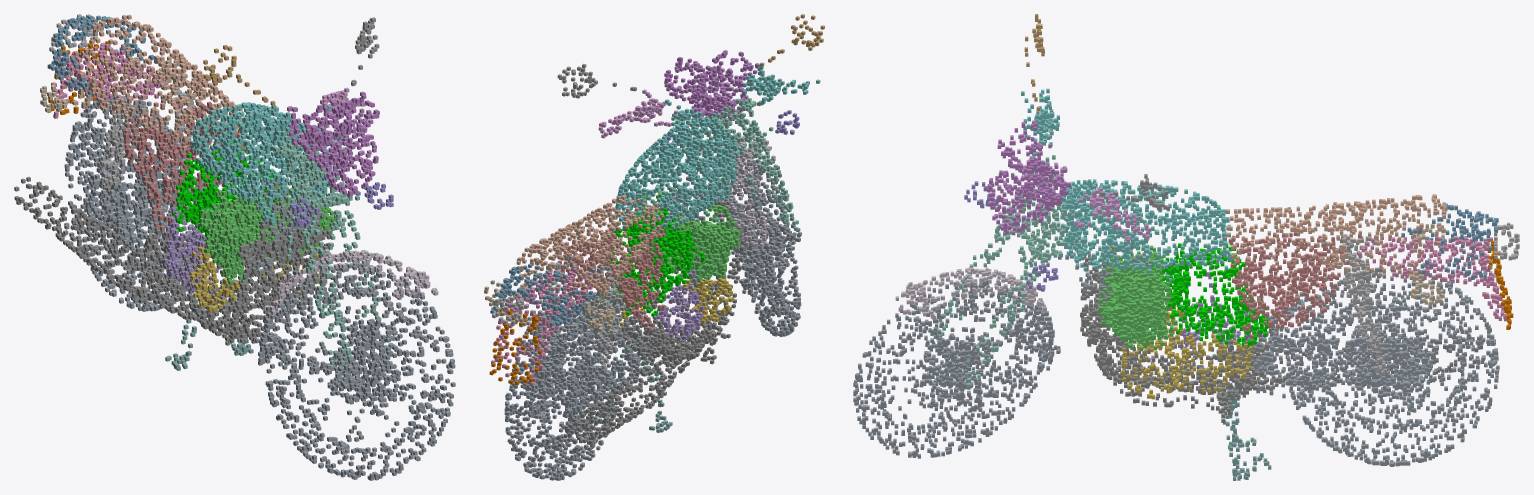
The model's file is motorcycle-2.glb.
3 renders of one model, left to right at view 1: azimuth 30°, elevation 25°; view 2: azimuth 150°, elevation 25°; view 3: azimuth 270°, elevation 25°, orthographic. The views are drawn at different scales.
Parts seen in each view (by area): view 1: world; view 2: world; view 3: world.
Part boxes in pixels (x1,y1,x2,y2): world: (14,14,455,480); world: (484,14,824,480); world: (853,14,1519,480).
Bounding box in the file's own units: 0.7591 × 1.26 × 1.9.
